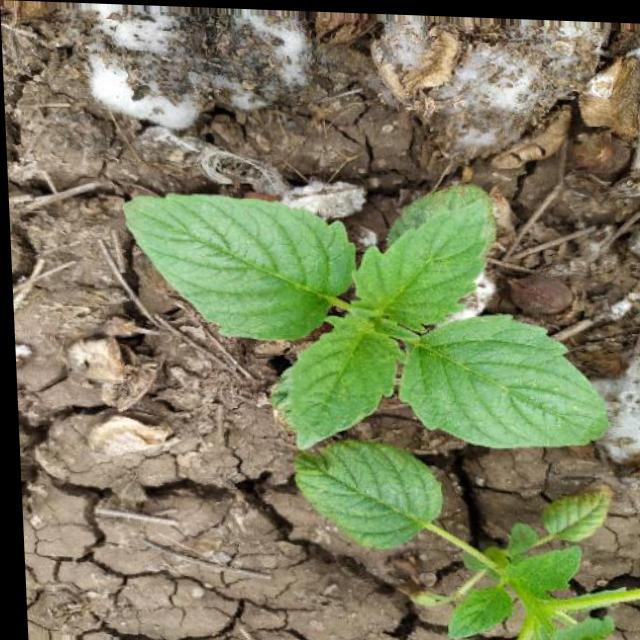crop: (70, 127, 632, 494)
